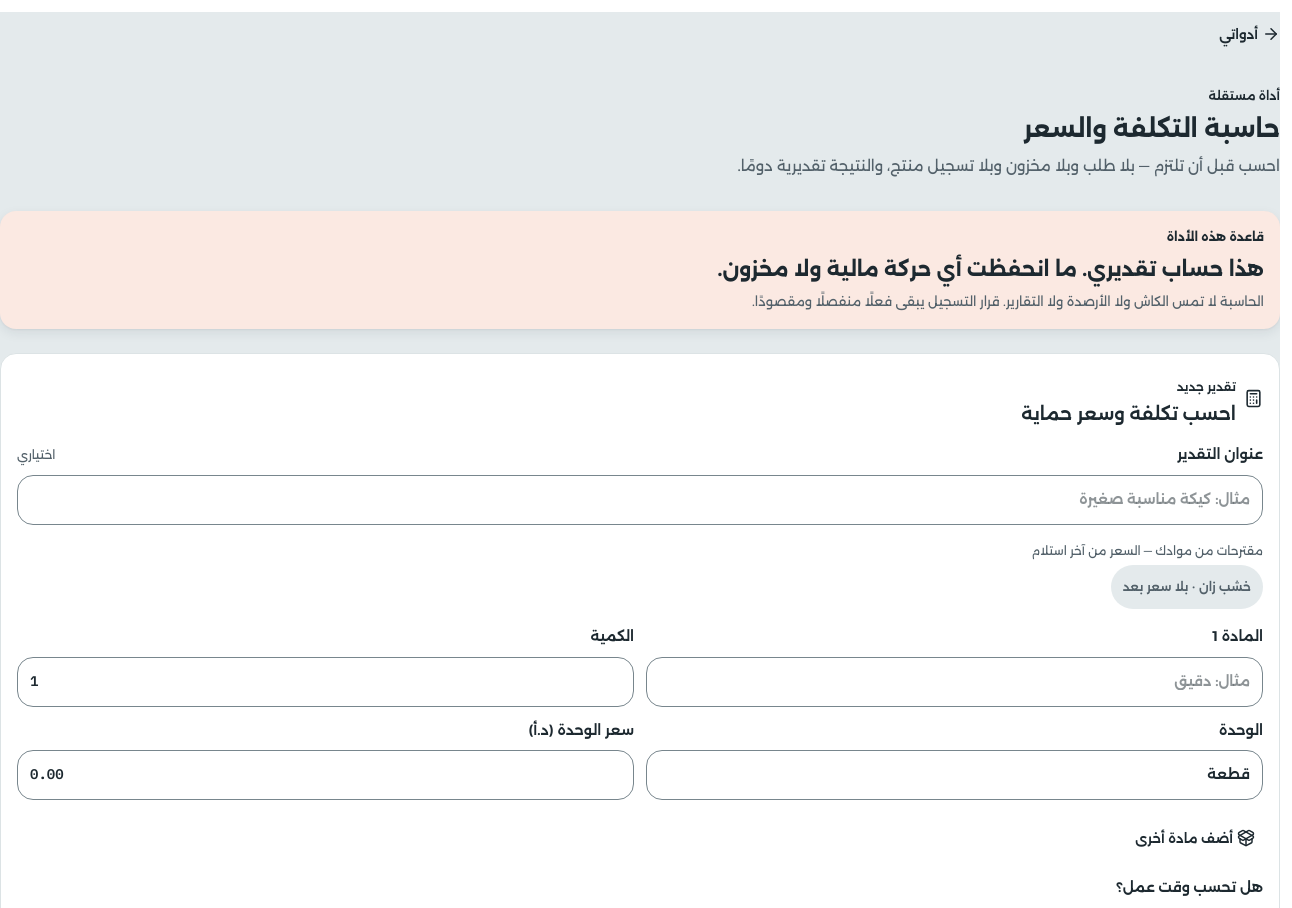
Test: G3 delivery surfaces — review before commitment › calculator offers inventory material suggestions with receipt-based confidence — zero inventory effect
The image size is (1292, 908).
expect the heading "حاسبة التكلفة والسعر" is shown: met, box [1024,114,1280,143]
Click the button "خشب زان · بلا سعر بعد". click: (1187, 587)
box: [1111,565,1263,609]
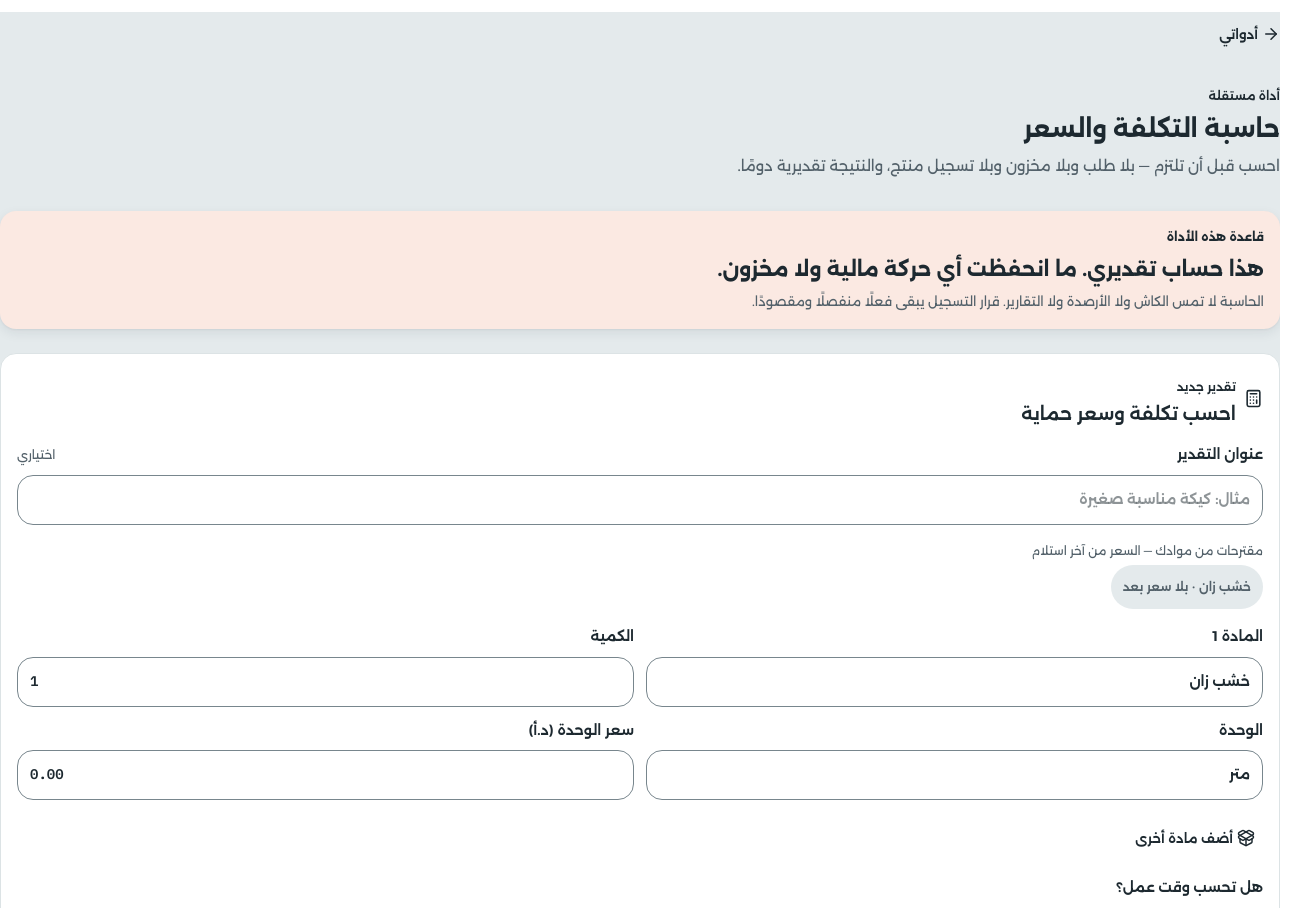
expect the field showing "خشب زان" is shown: met, box [646,657,1263,706]
